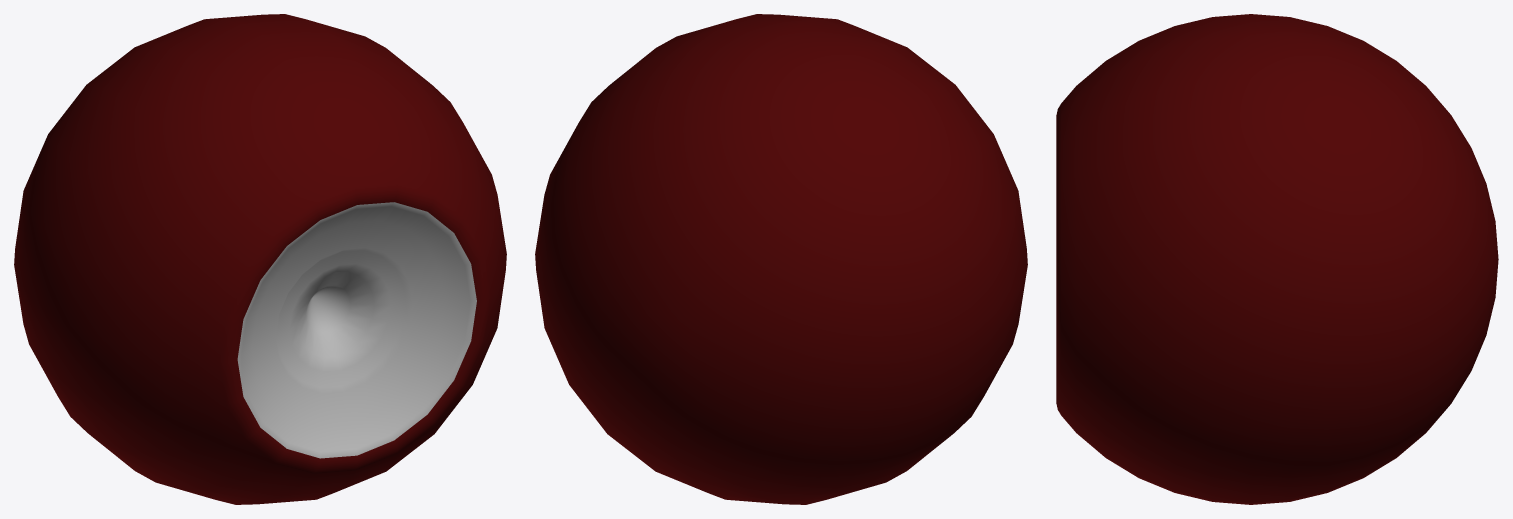
The model's file is eye_ball.obj.
The picture shows the model from 3 angles, left to right: view 1: azimuth 30°, elevation 25°; view 2: azimuth 150°, elevation 25°; view 3: azimuth 270°, elevation 25°; orthographic projection.
Parts seen in each view (by area): view 1: eyeball eyeball; view 2: eyeball eyeball; view 3: eyeball eyeball.
Part boxes in pixels (left/top/right/bottom): eyeball eyeball: left=14, top=14, right=506, bottom=504; eyeball eyeball: left=535, top=14, right=1027, bottom=504; eyeball eyeball: left=1056, top=14, right=1498, bottom=504.
Size of the model in its own units: 19.76 by 19.76 by 17.66.
